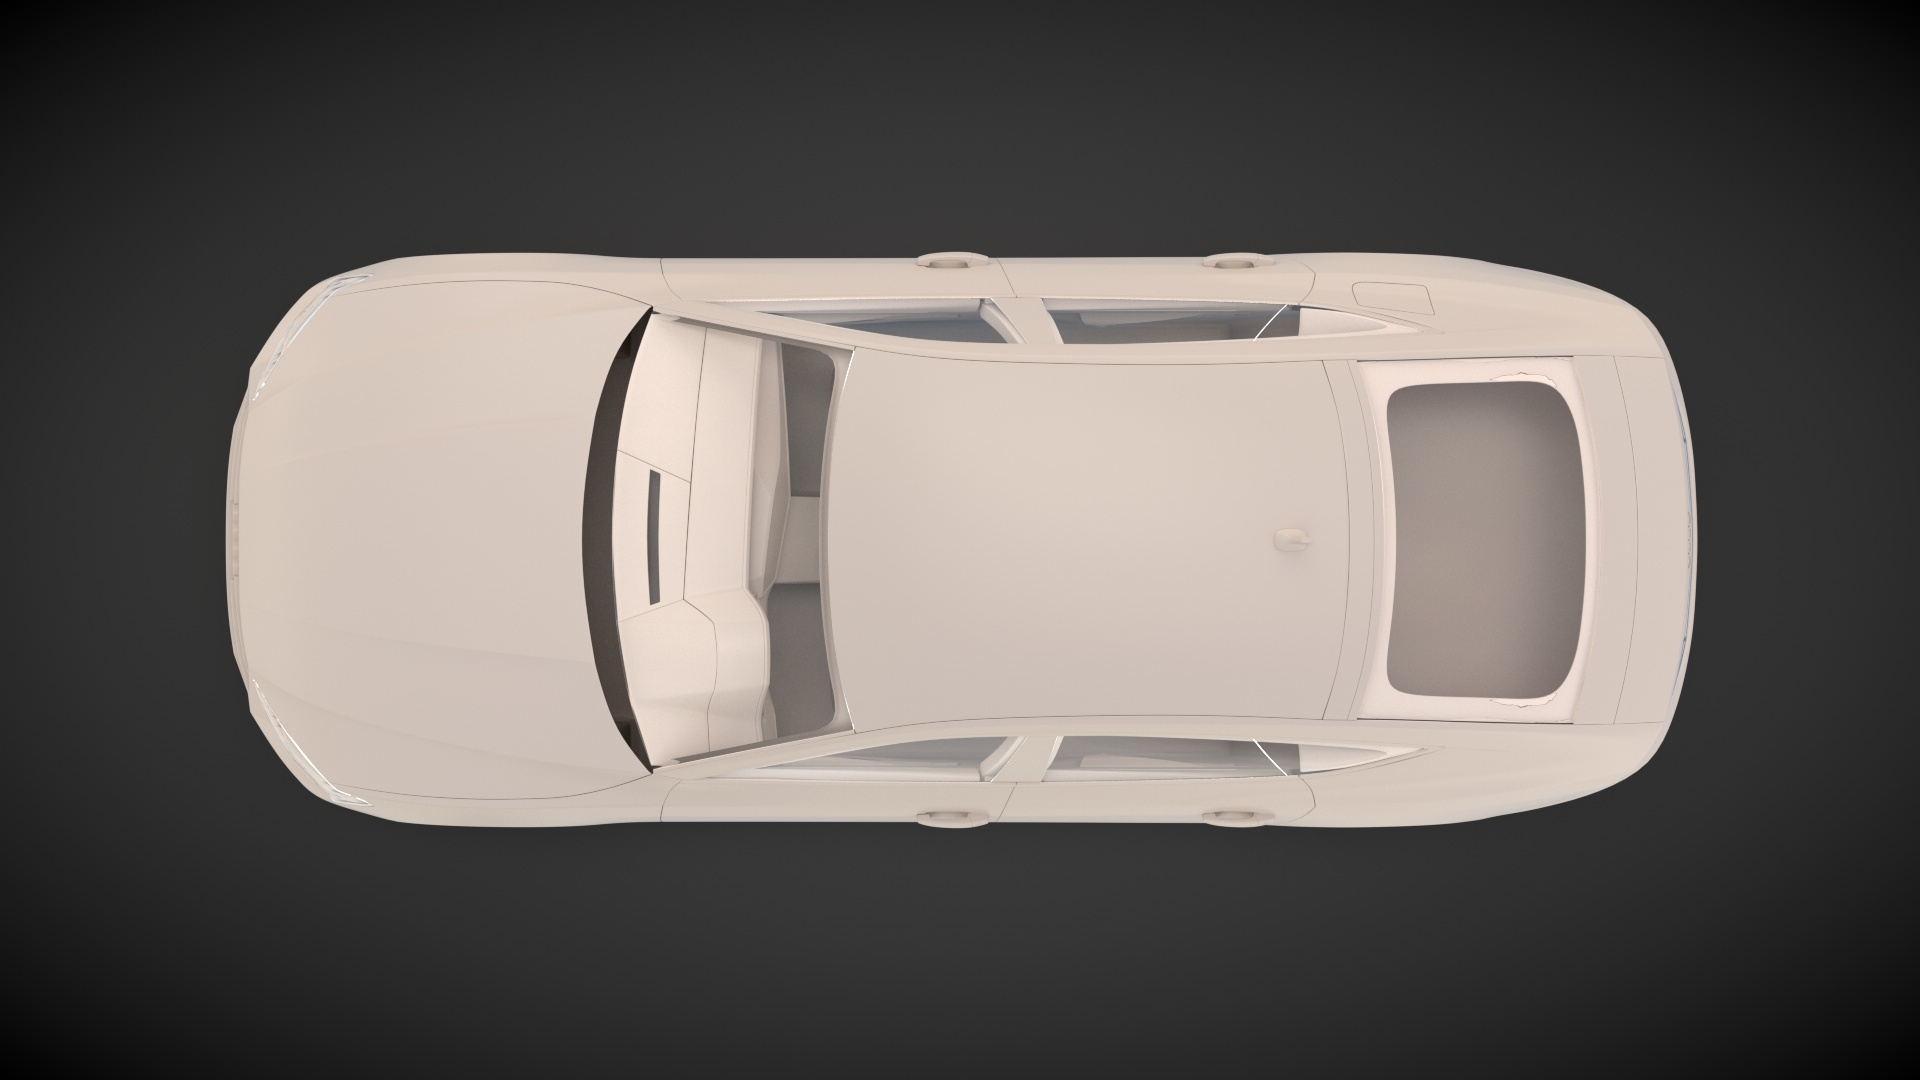hatch: (1352, 280, 1436, 320)
